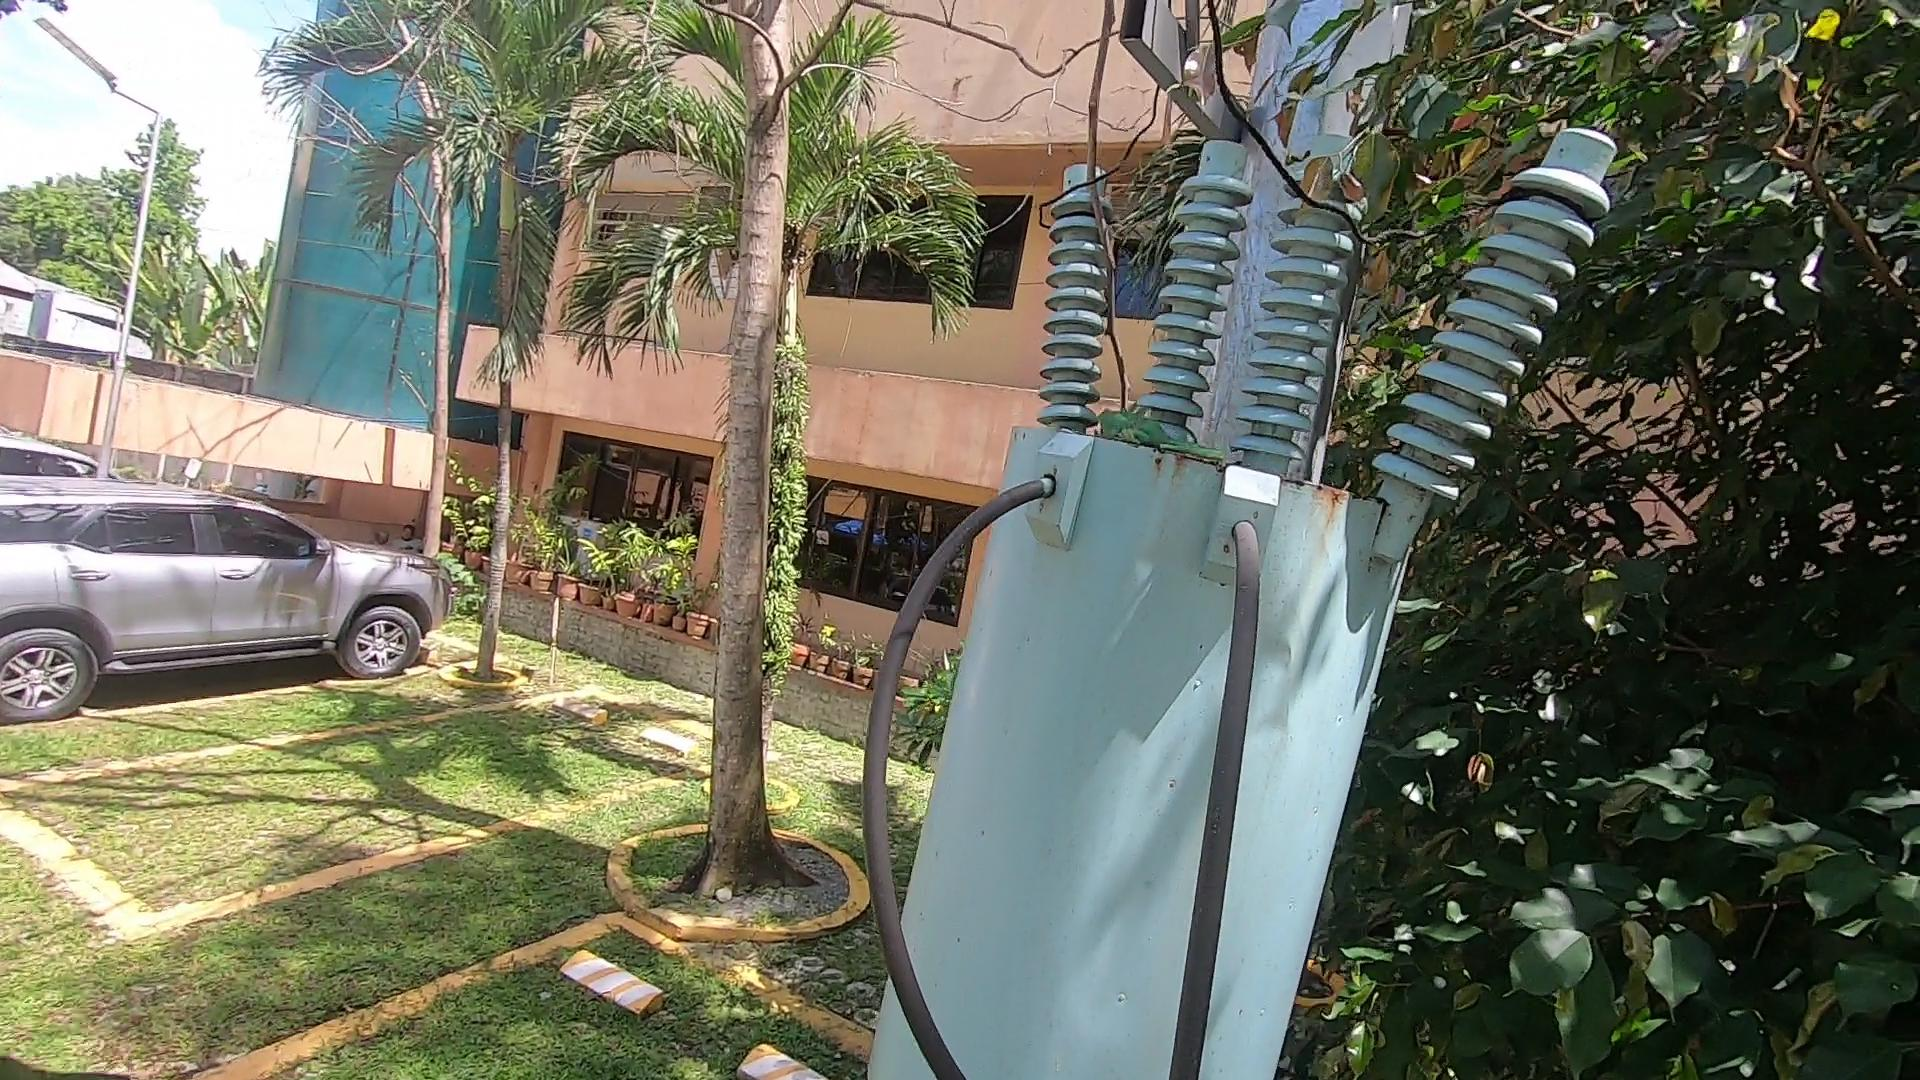branch with leaves: (1283, 84, 1485, 276)
tree branch: (1025, 12, 1204, 429)
